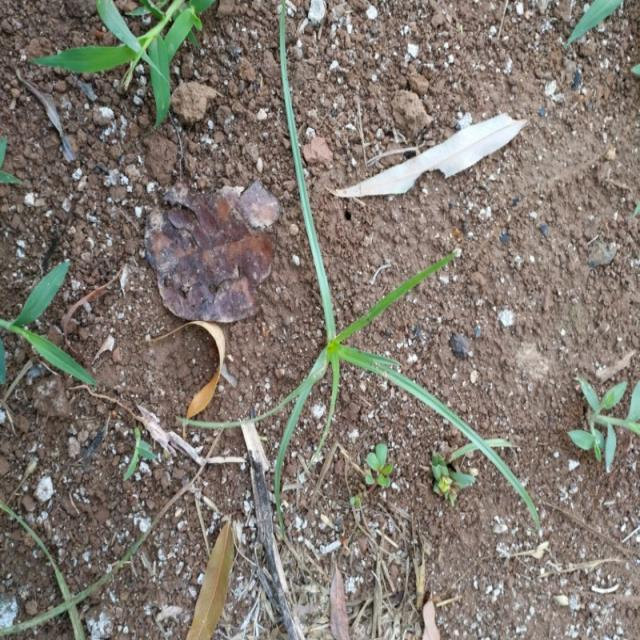sedge: (219, 71, 544, 548)
